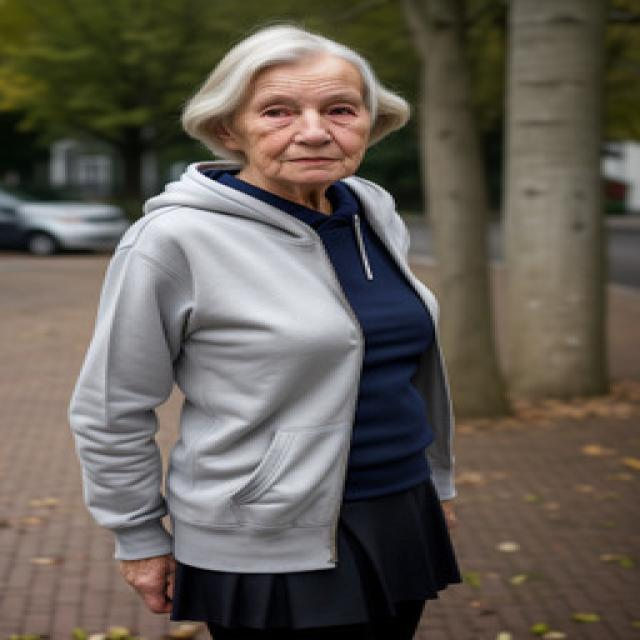Ai human 2: (61, 27, 530, 640)
